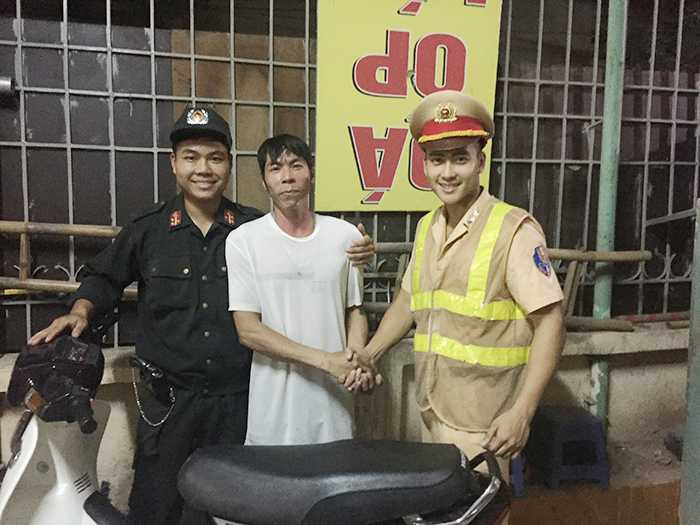police: (338, 84, 586, 482)
